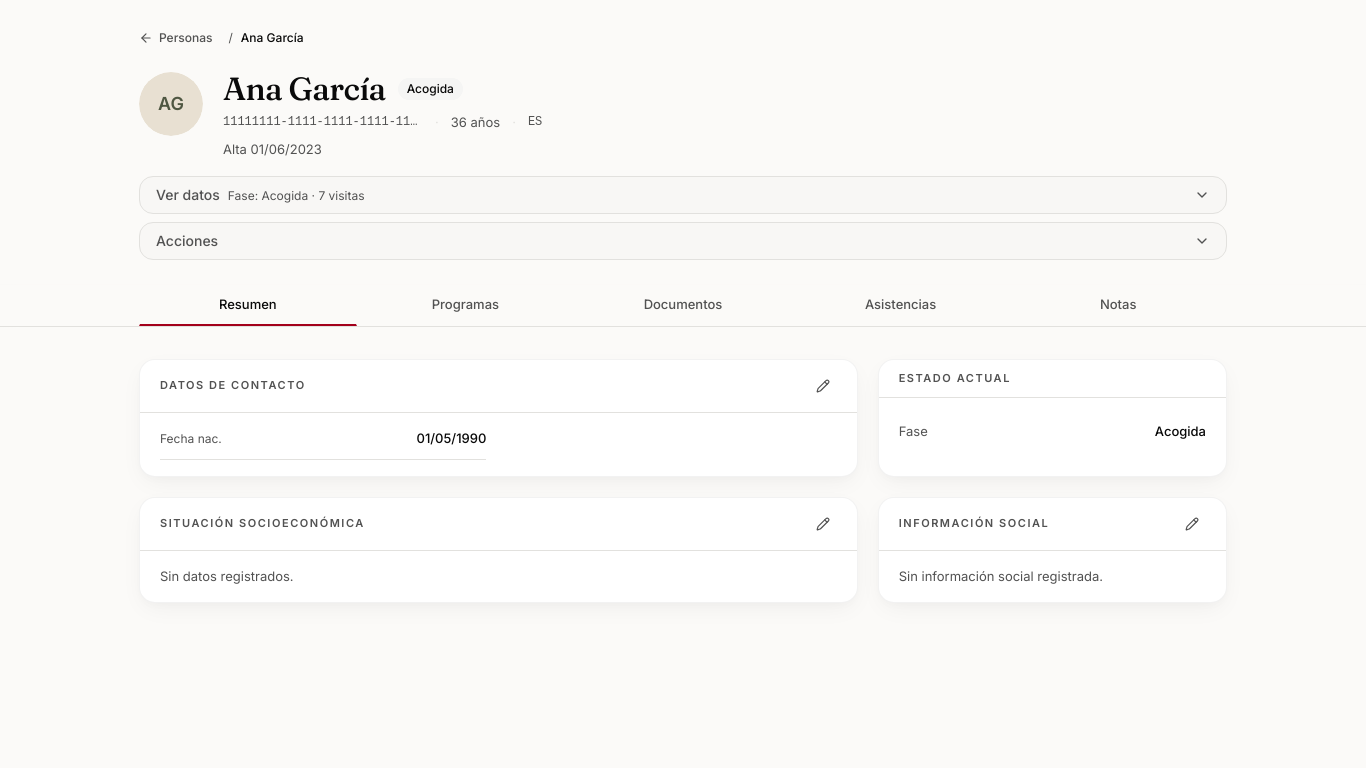
Test: PersonaDetalle — empty states (no fabricated data) › Notas shows an empty state when there are no notas
This screenshot has width=1366, height=768.
Click the tab "Notas": (1118, 305) [1009,284,1227,326]
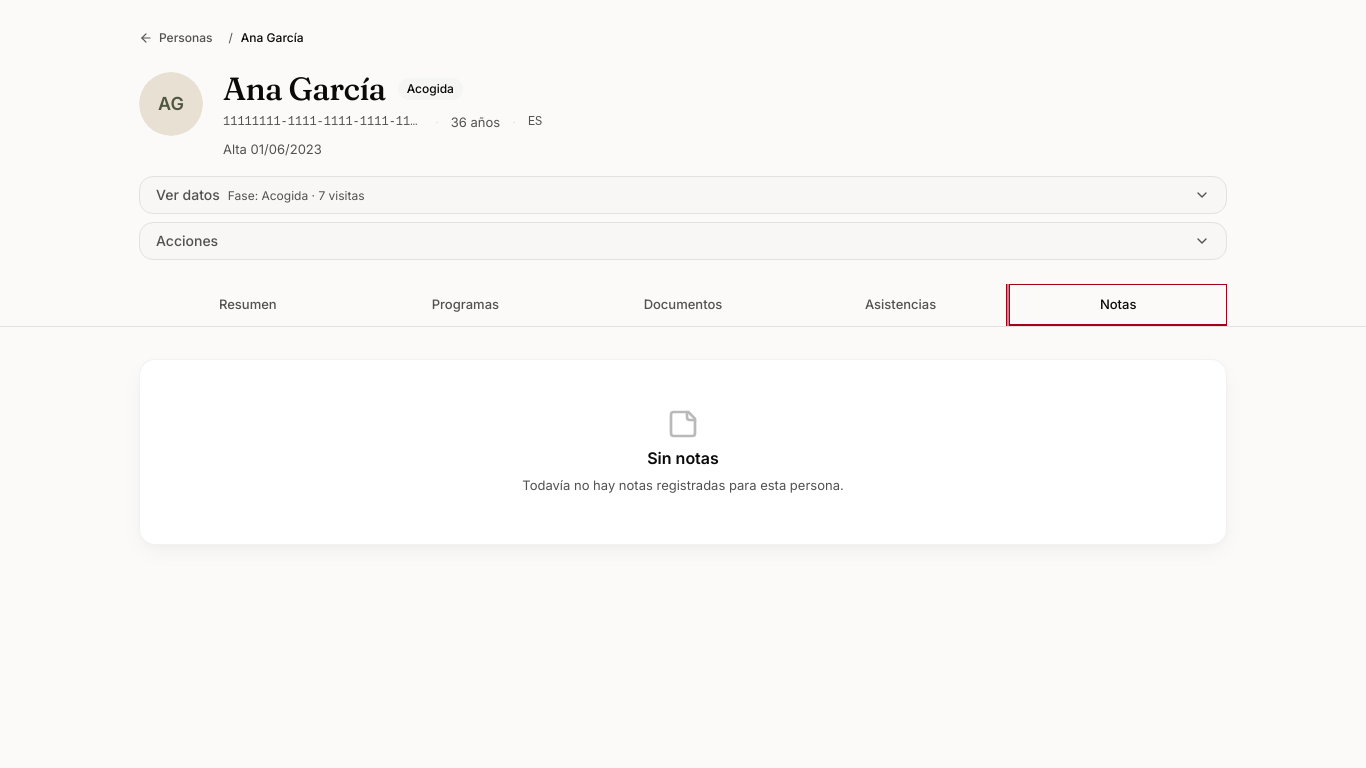
Expected: the text "Sin notas" is shown, [647,448,719,468]
